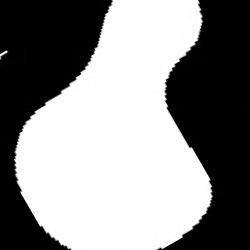spot: (16, 2, 213, 249)
